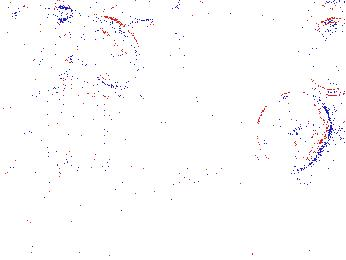moon jellyfish: (238, 20, 313, 108), (58, 11, 141, 87), (256, 90, 332, 172), (295, 15, 346, 97), (116, 19, 182, 79)
